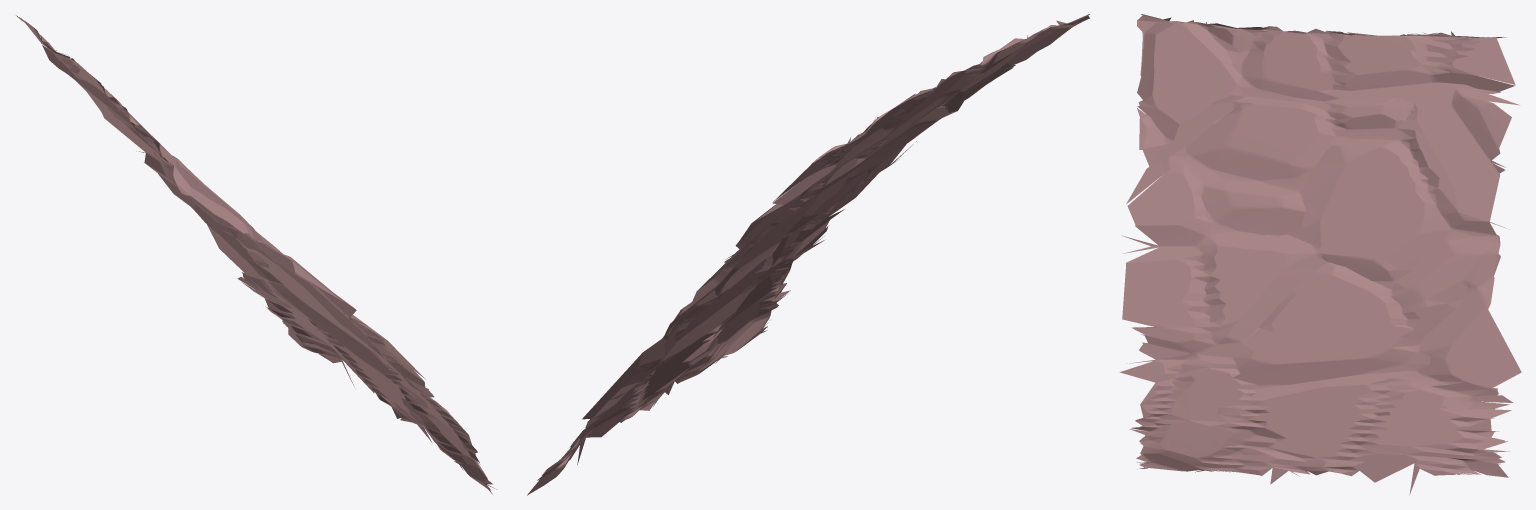
The model's file is plateau.fbx_Rock_Plateau_034LODs.fbx.
The picture shows the model from 3 angles, left to right: view 1: azimuth 30°, elevation 25°; view 2: azimuth 150°, elevation 25°; view 3: azimuth 270°, elevation 25°; orthographic projection. The views are drawn at different scales.
Parts seen in each view (by area): view 1: Rock Plateau.034_LOD0; view 2: Rock Plateau.034_LOD0; view 3: Rock Plateau.034_LOD0.
Boxes of the visible parts, left/top/right/bottom form: Rock Plateau.034_LOD0: left=16, top=15, right=496, bottom=494; Rock Plateau.034_LOD0: left=527, top=14, right=1089, bottom=495; Rock Plateau.034_LOD0: left=1119, top=14, right=1521, bottom=494.
Size of what is drawn, in the model's own units: 2726 by 3144 by 3323.
